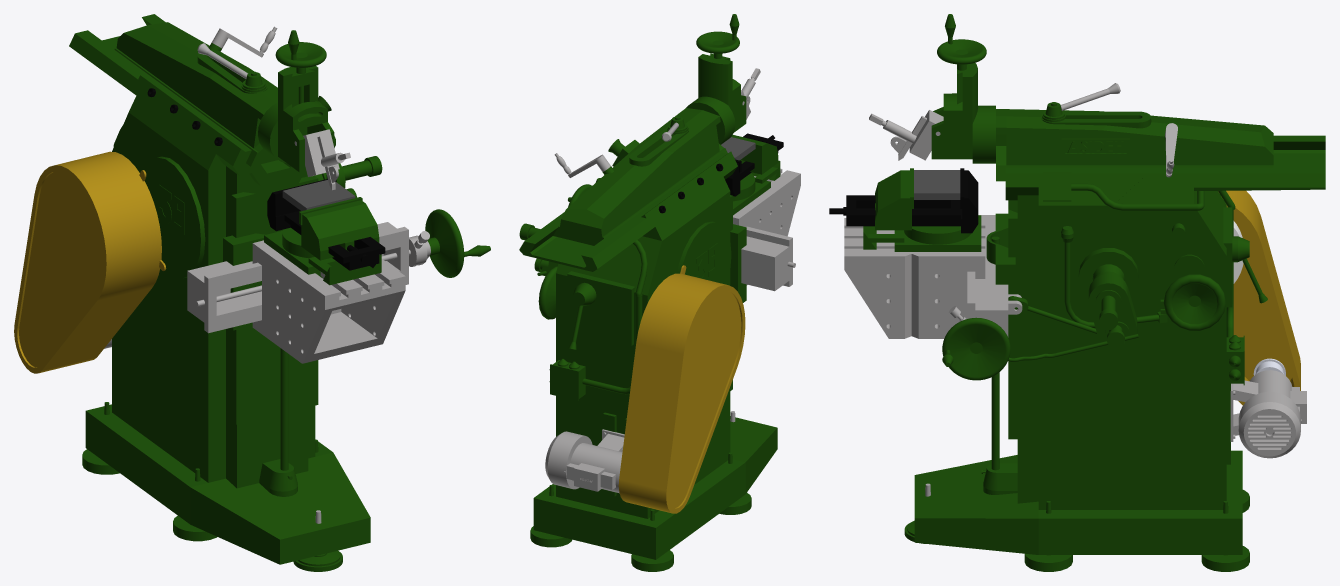
Rendered from Limadora GLTF.gltf.
3 views of the same model, side by side, from view 1: azimuth 30°, elevation 25°; view 2: azimuth 150°, elevation 25°; view 3: azimuth 270°, elevation 25° (orthographic). The views are drawn at different scales.
Parts seen in each view (by area): view 1: MatrizL1, Saliente-Extruir2, Cortar-Extruir9, Cortar-Extruir12, Cortar-Extruir1, Saliente-Extruir5, Obj_Revolución2, Saliente-Extruir28, Obj_Saliente-Extruir5, Saliente-Extruir1, Revolución2, Partir11 (+1 smaller); view 2: MatrizL1, Saliente-Extruir2, Cortar-Extruir12, Cortar-Extruir9, Saliente-Extruir17, Saliente-Extruir5, Revolución2, Cortar-Extruir1, Saliente-Extruir28, Saliente-Extruir1, Obj_Revolución1; view 3: MatrizL1, Cortar-Extruir12, Cortar-Extruir9, Saliente-Extruir2, Saliente-Extruir17, Obj_Revolución2, Saliente-Extruir28, Saliente-Extruir5, Cortar-Extruir1, Obj_Saliente-Extruir5, Saliente-Extruir1, Revolución2.
Part boxes in pixels (<box>): MatrizL1: <box>69,14,382,564</box>; Saliente-Extruir2: <box>14,151,166,373</box>; Cortar-Extruir9: <box>187,222,430,363</box>; Cortar-Extruir12: <box>114,22,334,171</box>; Cortar-Extruir1: <box>299,197,379,260</box>; Saliente-Extruir5: <box>264,227,381,285</box>; Obj_Revolución2: <box>425,209,490,277</box>; Saliente-Extruir28: <box>267,179,385,270</box>; Obj_Saliente-Extruir5: <box>294,129,350,190</box>; Saliente-Extruir1: <box>282,180,355,210</box>; Revolución2: <box>275,30,326,67</box>; Partir11: <box>293,550,342,571</box>; MatrizL1: <box>519,139,777,571</box>; Saliente-Extruir2: <box>618,265,745,513</box>; Cortar-Extruir12: <box>553,53,746,245</box>; Cortar-Extruir9: <box>733,168,800,291</box>; Saliente-Extruir17: <box>545,429,624,493</box>; Saliente-Extruir5: <box>733,160,780,215</box>; Revolución2: <box>696,14,739,53</box>; Cortar-Extruir1: <box>731,134,778,174</box>; Saliente-Extruir28: <box>725,133,783,196</box>; Saliente-Extruir1: <box>721,137,755,160</box>; Obj_Revolución1: <box>554,153,610,177</box>; MatrizL1: <box>914,135,1325,571</box>; Cortar-Extruir12: <box>931,63,1273,181</box>; Cortar-Extruir9: <box>844,215,1022,338</box>; Saliente-Extruir2: <box>1226,190,1300,405</box>; Saliente-Extruir17: <box>1230,370,1306,458</box>; Obj_Revolución2: <box>942,317,1010,380</box>; Saliente-Extruir28: <box>829,170,978,233</box>; Saliente-Extruir5: <box>863,215,981,251</box>; Cortar-Extruir1: <box>875,168,913,230</box>; Obj_Saliente-Extruir5: <box>869,110,943,160</box>; Saliente-Extruir1: <box>914,170,960,199</box>; Revolución2: <box>937,14,986,64</box>.
Size of the model in its own units: 0.8245 by 1.41 by 1.23.
